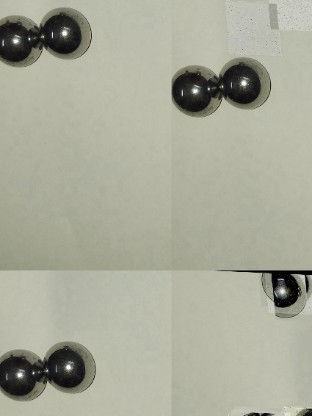ironball: (216, 53, 269, 110), (0, 12, 45, 75), (0, 348, 51, 401), (171, 67, 220, 120), (42, 5, 91, 58), (46, 339, 100, 387), (264, 271, 311, 312)
